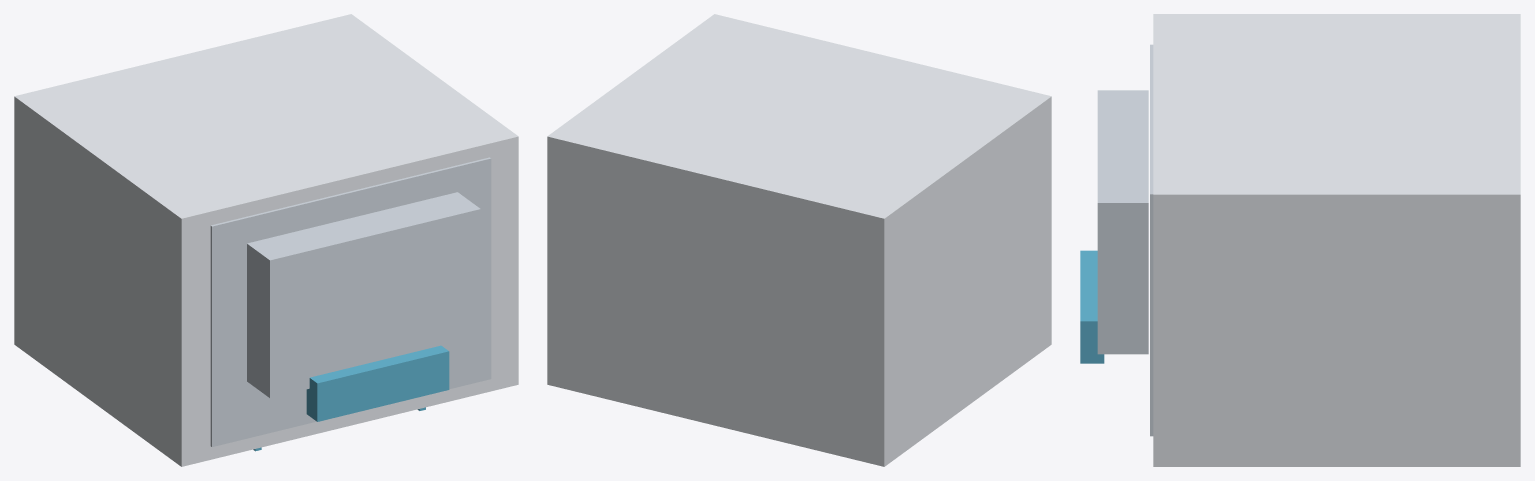
File: walk-in-fridge.glb
The picture shows the model from 3 angles, left to right: view 1: azimuth 30°, elevation 25°; view 2: azimuth 150°, elevation 25°; view 3: azimuth 270°, elevation 25°; orthographic projection. The views are drawn at different scales.
Parts seen in each view (by area): view 1: fridge_body, compressor_top, ceiling, compressor_accent; view 2: fridge_body; view 3: fridge_body, compressor_top, compressor_accent, ceiling.
Part boxes in pixels (x1,y1,x2,y2): fridge_body: (14, 14, 518, 466); compressor_top: (247, 192, 480, 398); ceiling: (210, 157, 491, 446); compressor_accent: (306, 345, 449, 421); fridge_body: (547, 14, 1051, 466); fridge_body: (1153, 14, 1520, 466); compressor_top: (1097, 90, 1148, 354); compressor_accent: (1080, 250, 1104, 363); ceiling: (1150, 44, 1153, 436).
Bounding box in the file's own units: 3.2 × 2.41 × 3.29.
